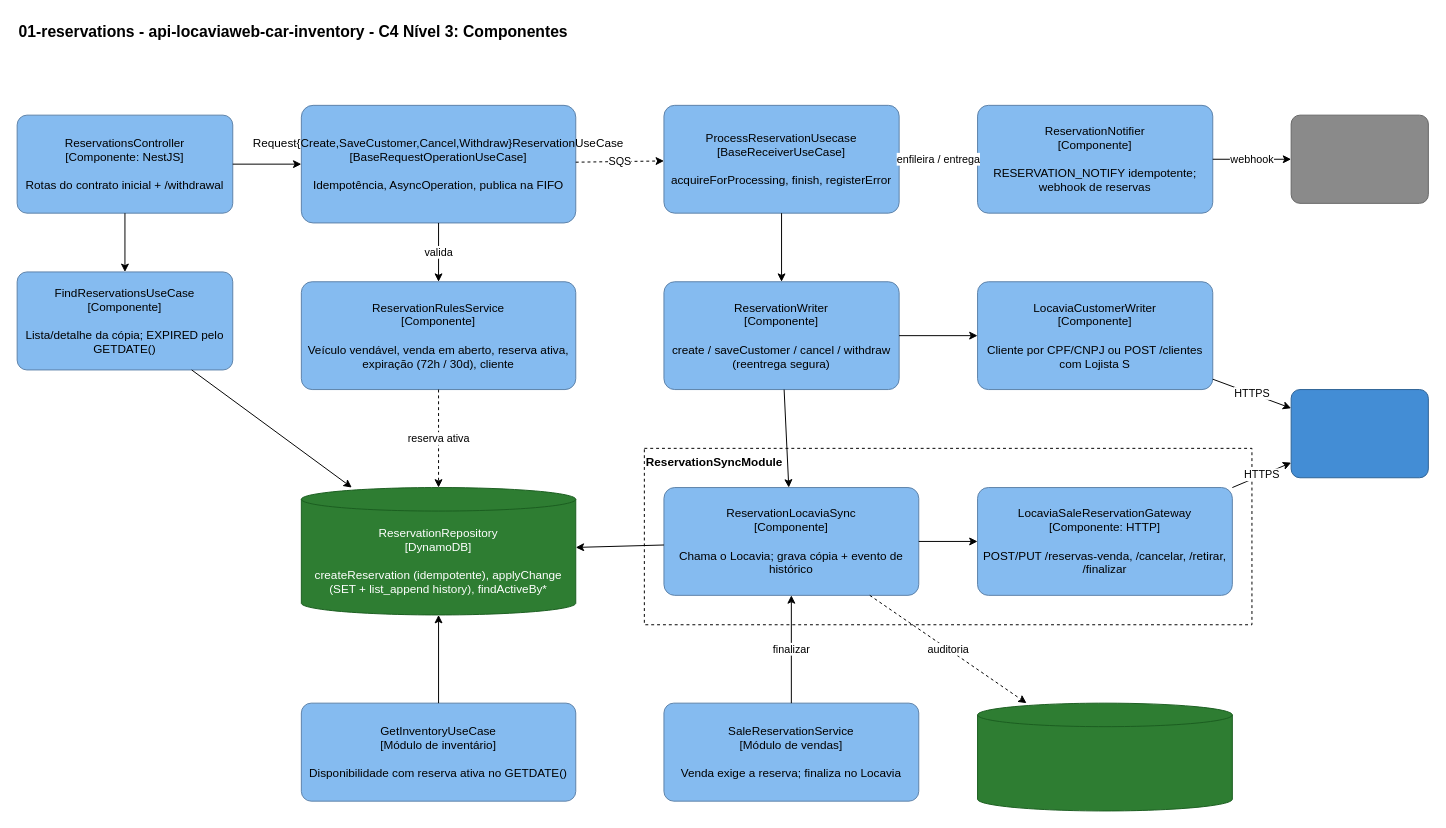
The diagram is 1446 pixels wide and 828 high, and some of its shapes have lost their labels. Here are the shapes that lost their labels. From the top down, the centre of each, then its label:
At (1359,158): "Só Estoque [Sistema Externo]".
At (1359,433): "api-locavia-web-ts [Sistema Externo]".
At (1104,756): "OperationAuditService [DynamoDB] timeline da AsyncOperation (todos os passos)".
